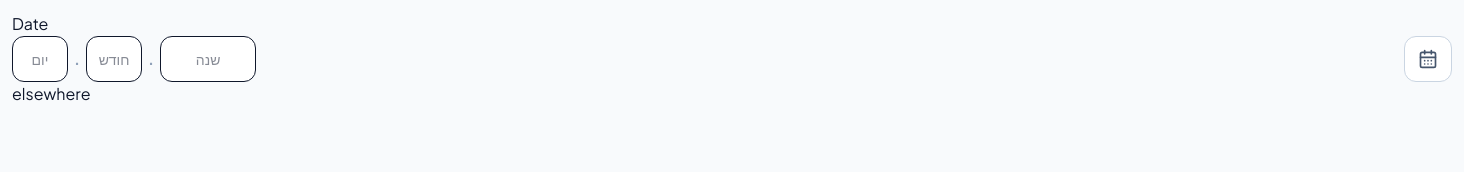
Test: <DateInput> › Hebrew: day, month and year boxes with "." between them, and an ISO value
Expected: the element showing ". ." is shown, [12,36,256,82]
Click the field labelled "Date": click(40, 59) [12,36,68,82]
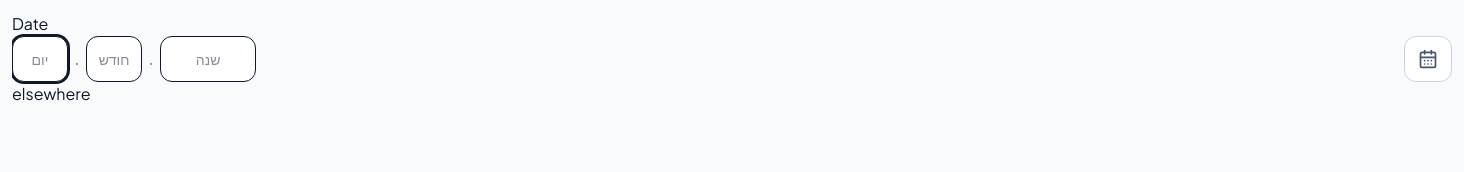
Type keys "21102026"
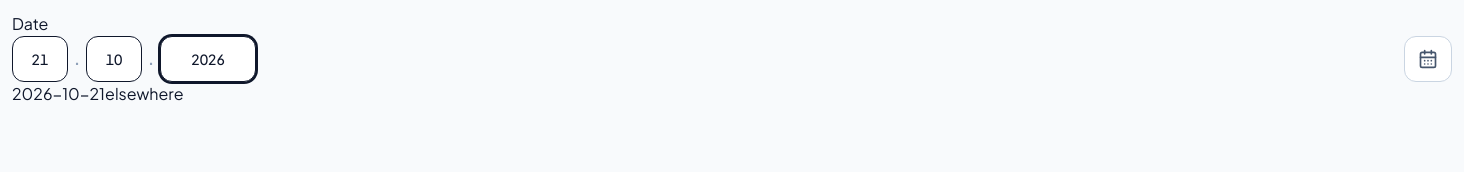
Result: the text with test id "value" reads "2026-10-21" at [12,83,105,104]
